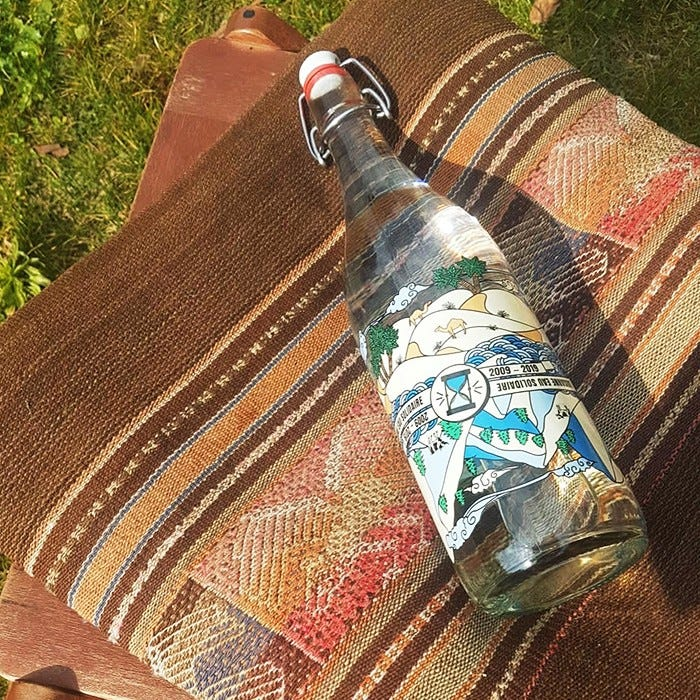glass_bottle: (272, 47, 673, 639)
